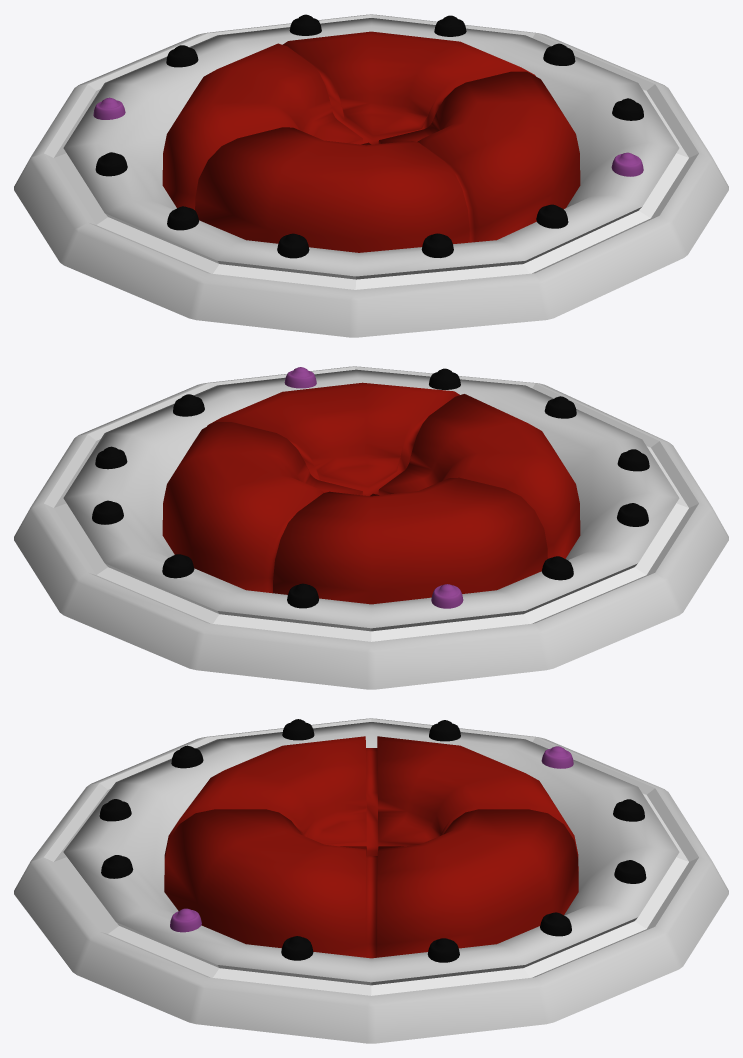
File: Pressure Plate.fbx
3 views of the same model, one above another, from view 1: azimuth 30°, elevation 25°; view 2: azimuth 150°, elevation 25°; view 3: azimuth 270°, elevation 25° (orthographic).
Parts seen in each view (by area): view 1: Torus, Torus.001, Diode1, Diode2; view 2: Torus, Torus.001, Diode1, Diode2; view 3: Torus, Torus.001, Diode2, Diode1.
Boxes of the visible parts, x1,y1,x2,y2 form: Torus: (14,14,728,337); Torus.001: (162,31,580,252); Diode1: (93,45,453,258); Diode2: (289,14,643,228); Torus: (14,366,728,689); Torus.001: (162,382,580,604); Diode1: (287,396,649,608); Diode2: (92,367,460,578); Torus: (14,718,728,1043); Torus.001: (164,736,578,958); Diode2: (101,855,646,962); Diode1: (99,719,644,821).
Bounding box in the file's own units: 324 × 43.65 × 324.
